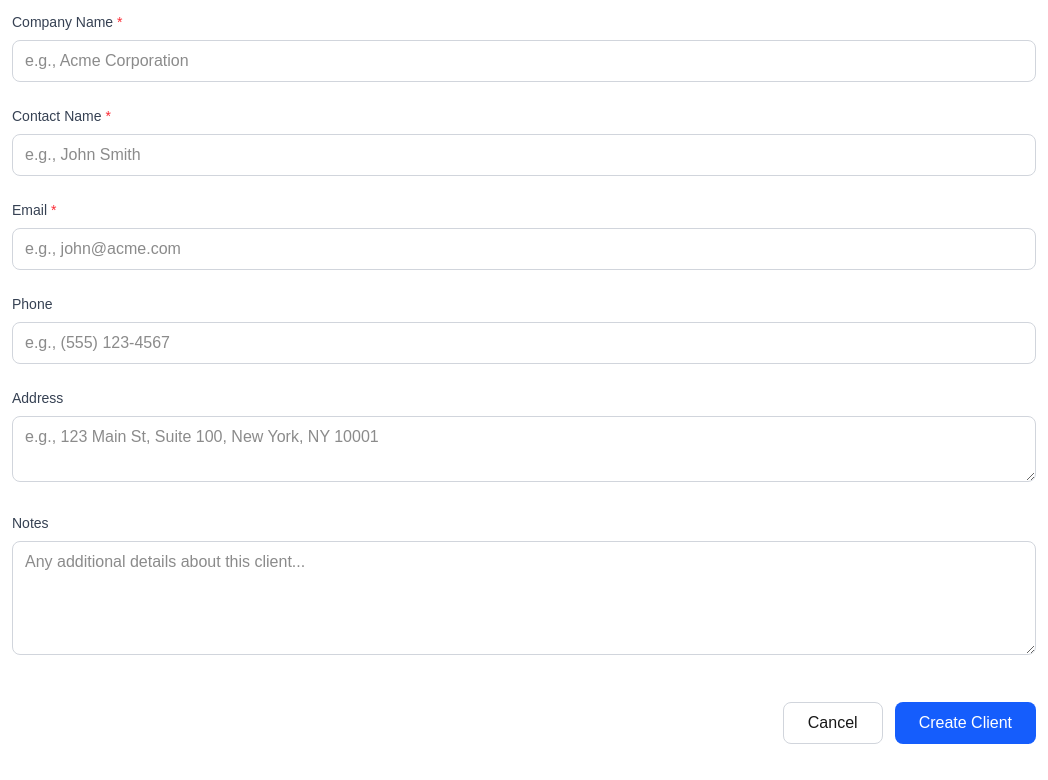
it: ClientForm › validation › shows email validation error for invalid email
Type "Acme" into the field labelled "Company Name *" at point(524, 61), box [12, 40, 1036, 82]
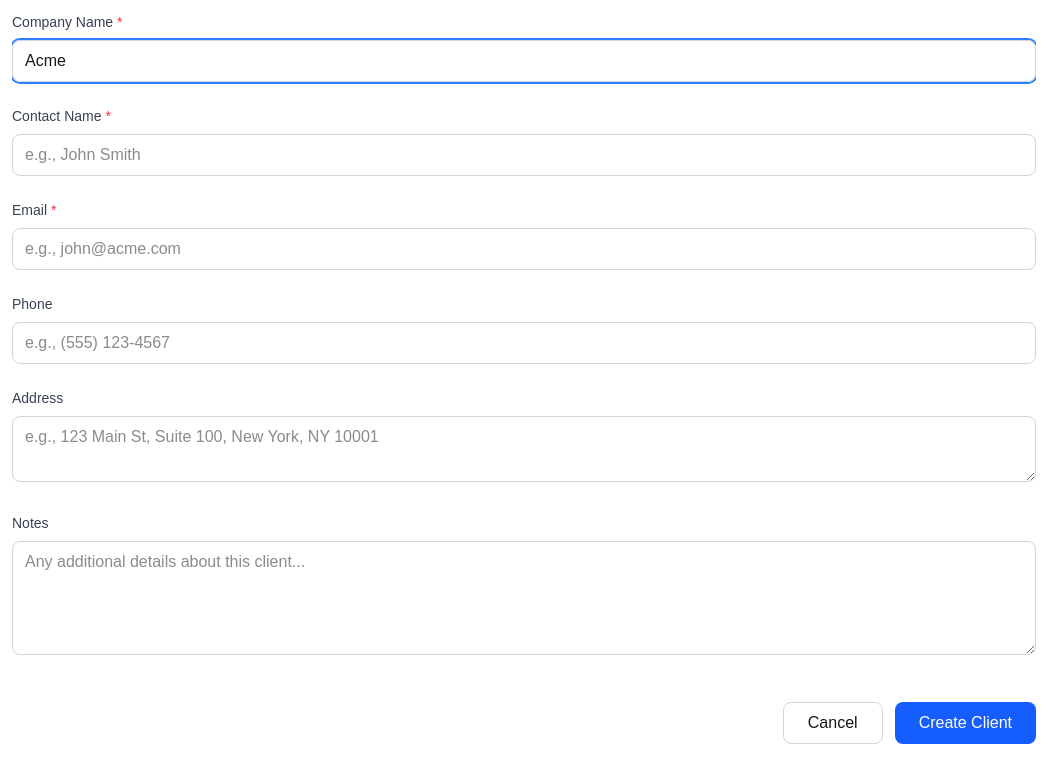
Type "John" into the field labelled "Contact Name *" at point(524, 155), box [12, 134, 1036, 176]
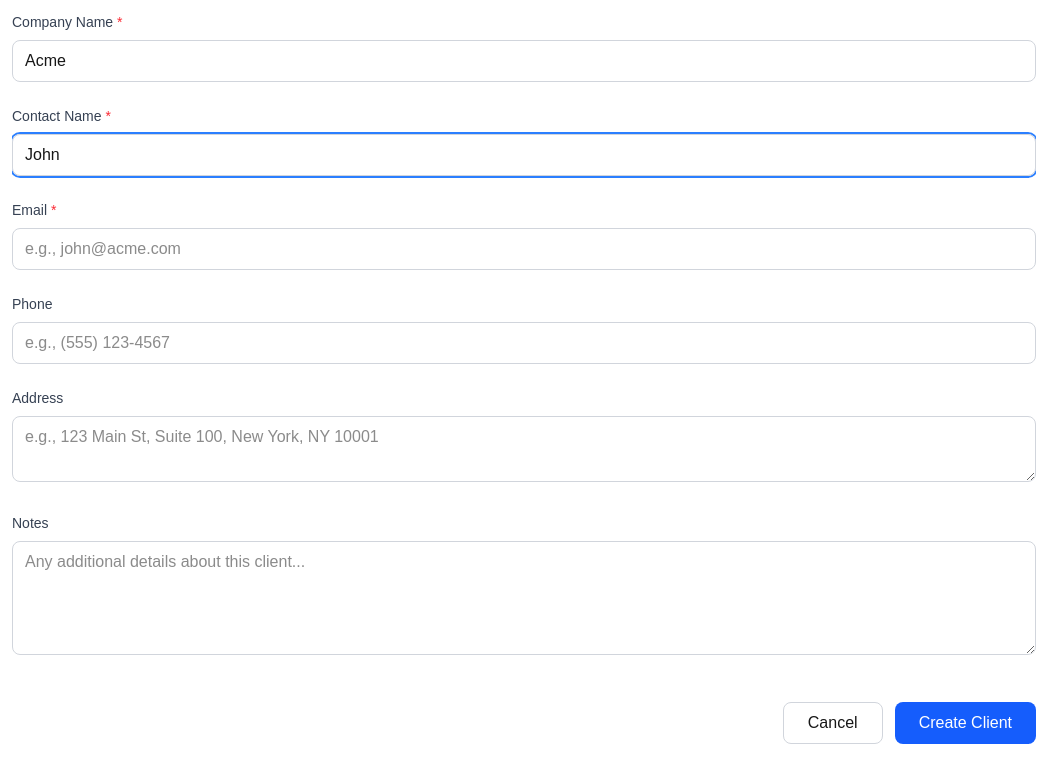
Type "not-an-email" into the field labelled "Email *" at point(524, 249), box [12, 228, 1036, 270]
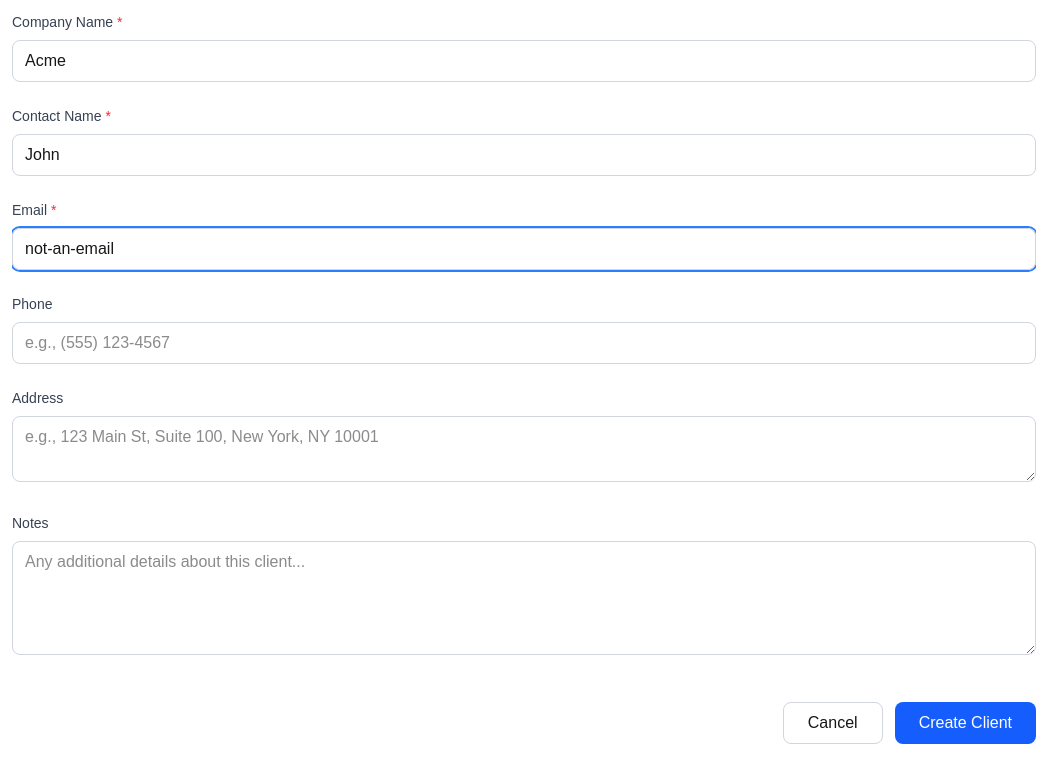
Submit the form
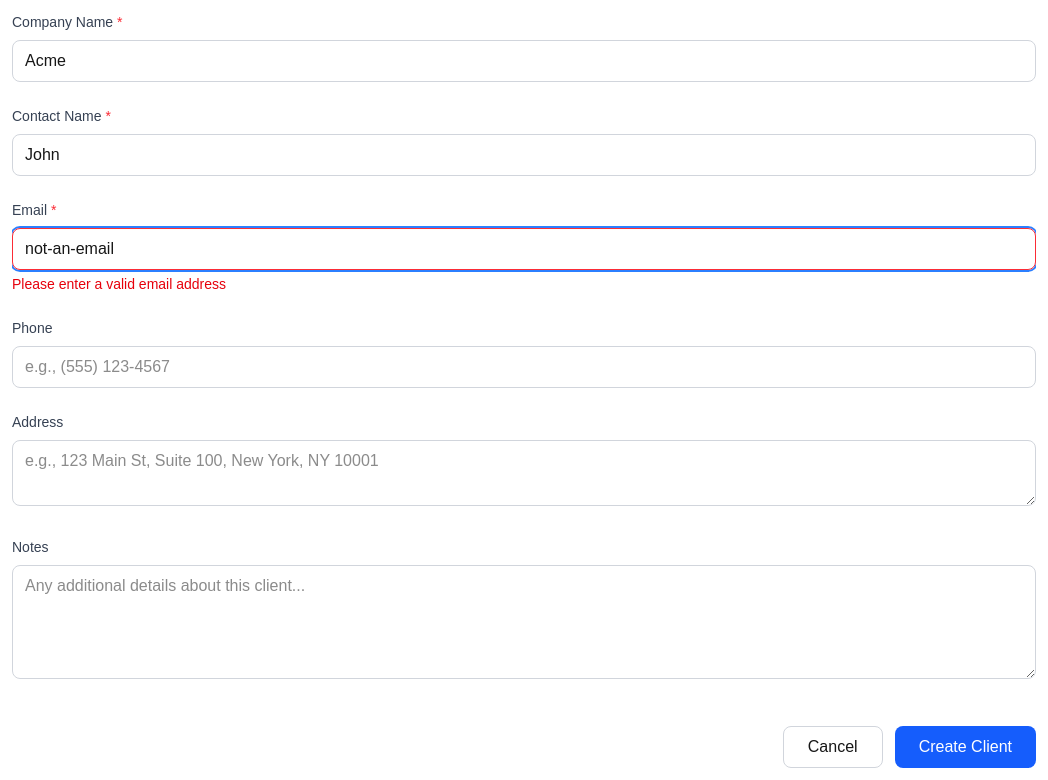
Result: the text "Please enter a valid email address" is shown at [12, 276, 226, 292]
